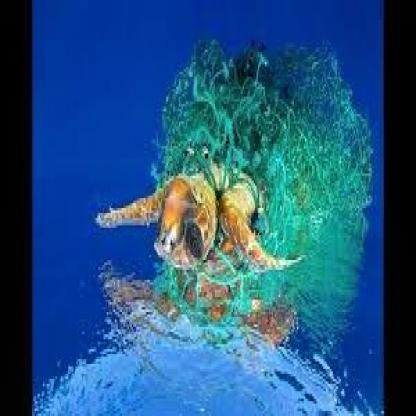net: (162, 47, 370, 319)
